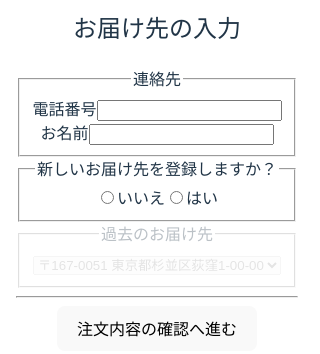
Scenario: AccountForm コンポーネントのテスト › 「いいえ」を選択後、お届け先が活性化する
The width and height of the screenshot is (320, 354).
Click the radio button labelled "いいえ". click: (108, 198)
box: top-left (101, 191), bottom-right (114, 204)
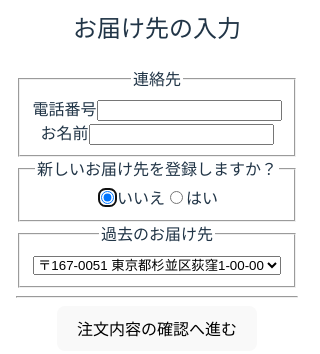
Expected: the element "過去のお届け先" is enabled, top-left (18, 222), bottom-right (296, 288)
